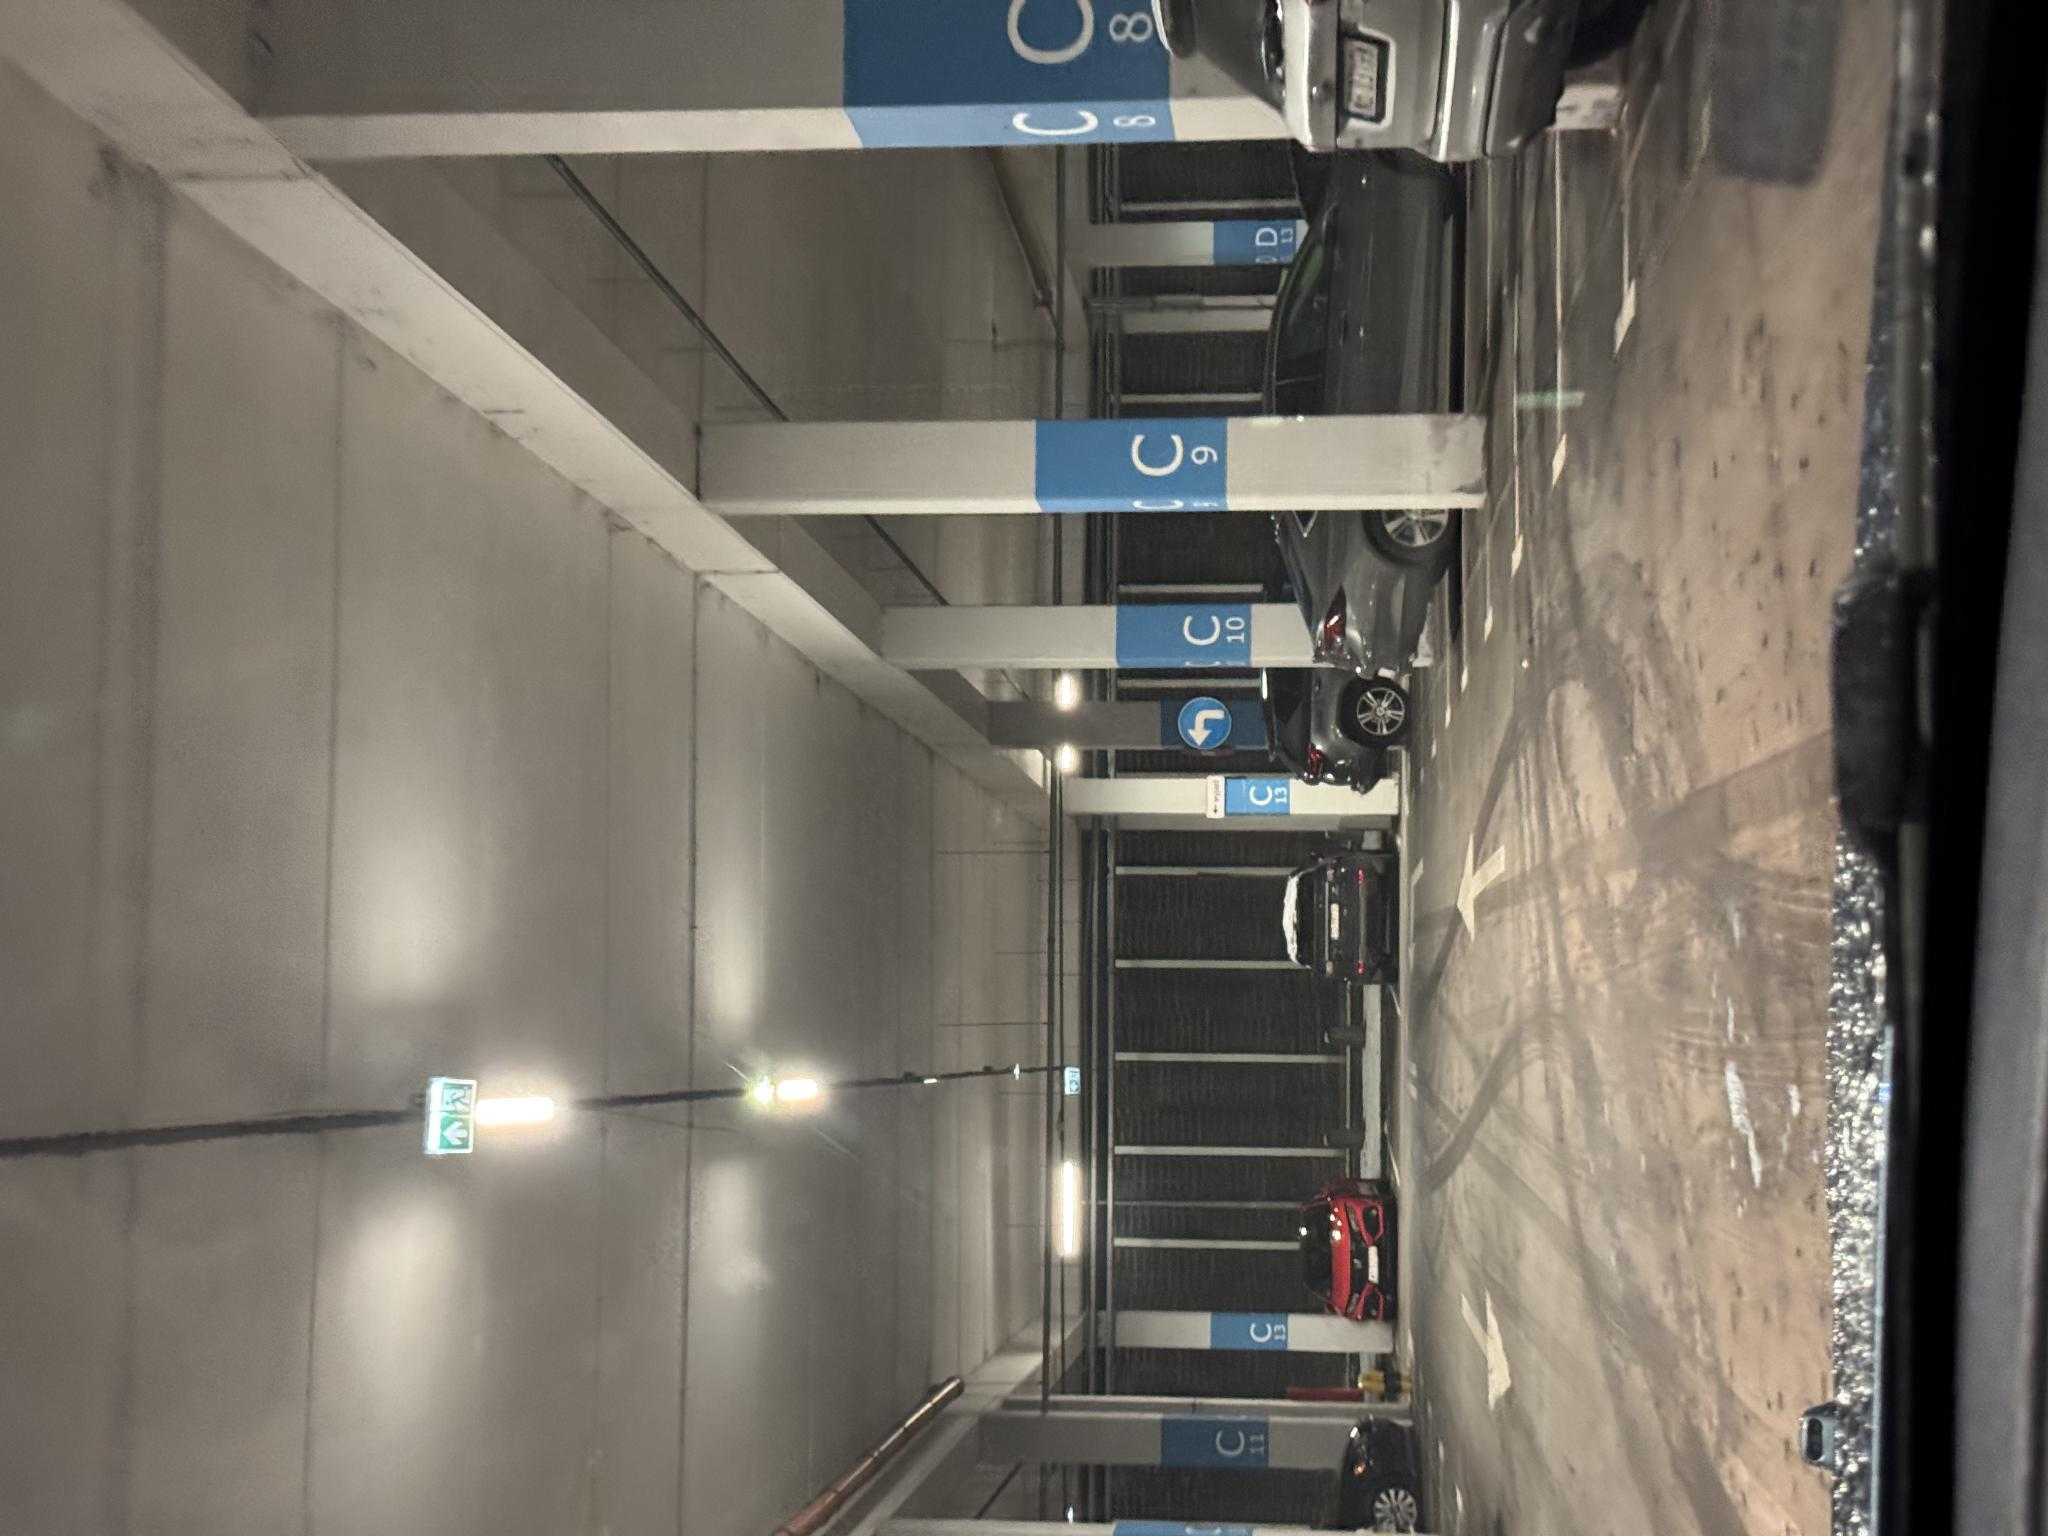mandatory: (785, 1176, 840, 1233)
